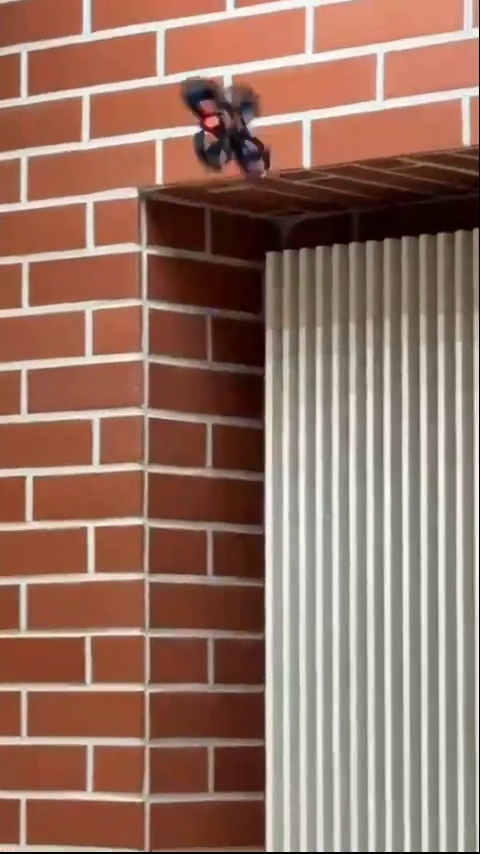drone: (181, 76, 273, 184)
